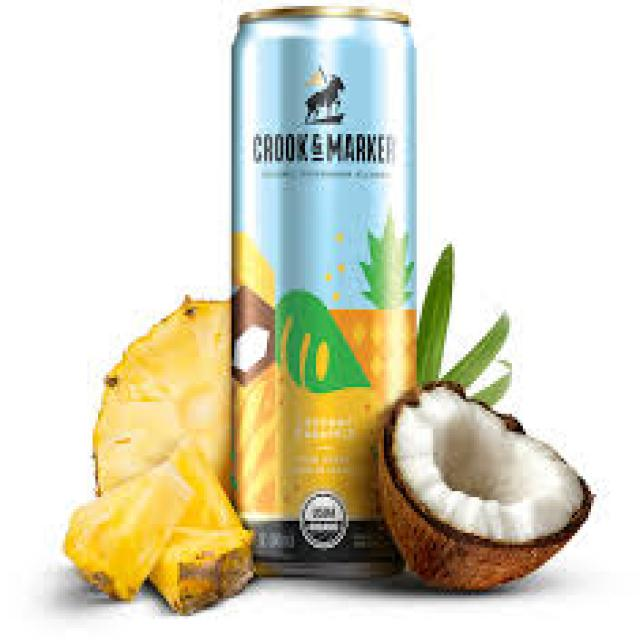Cans: (223, 3, 433, 574)
